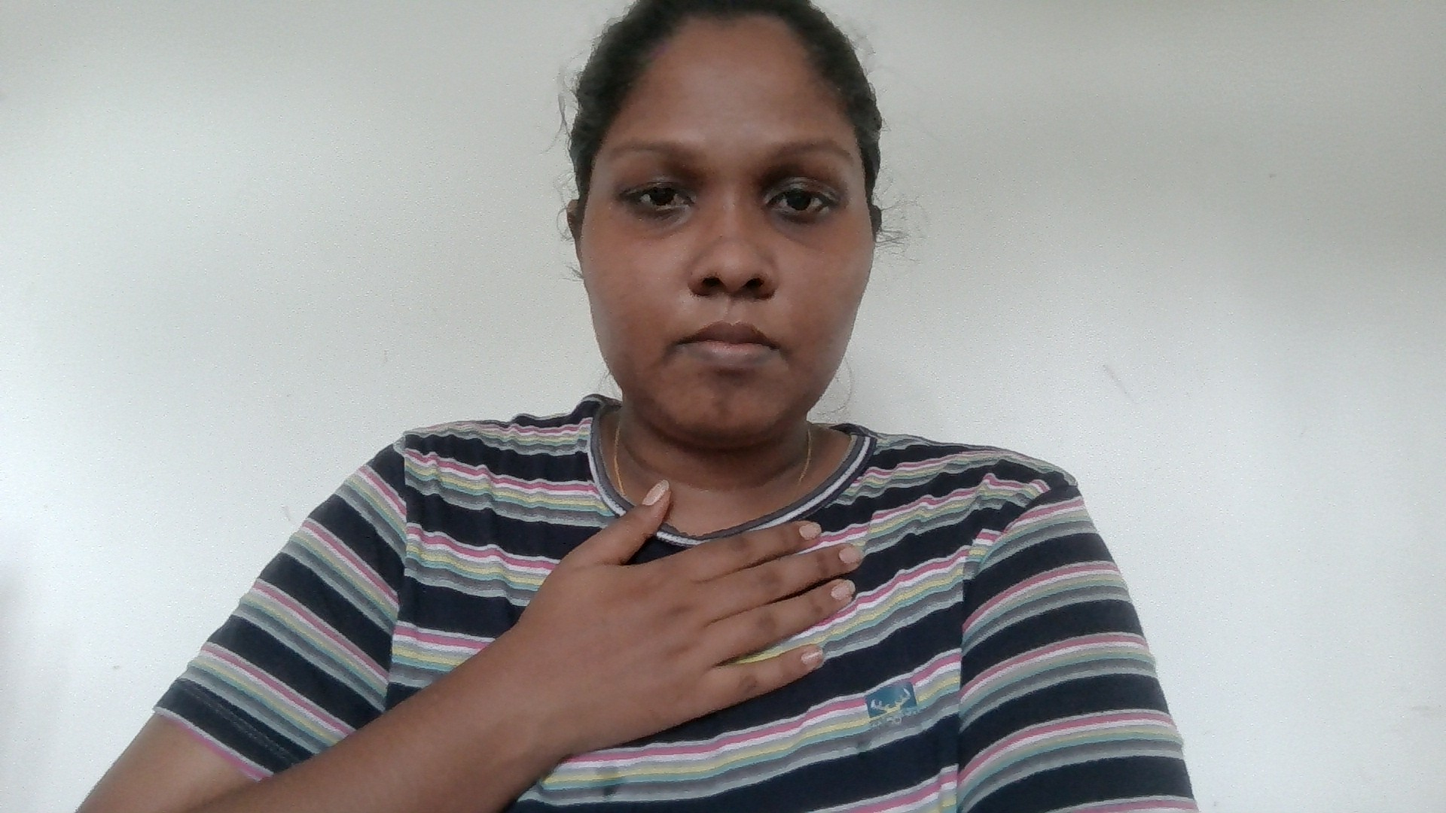Please: (506, 479, 893, 769)
